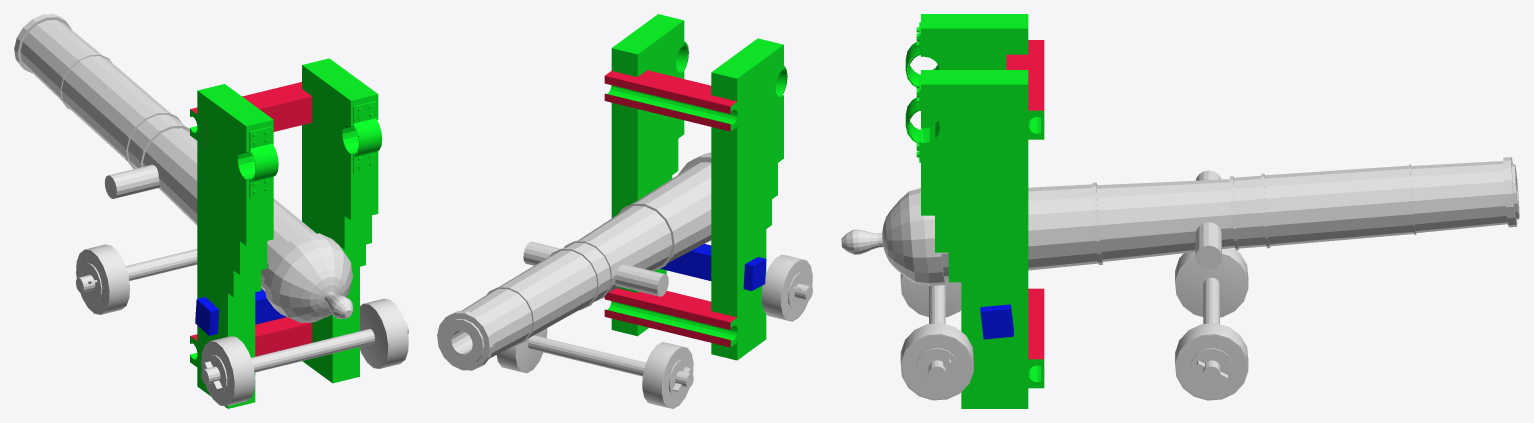
Rendered from Gun11.fbx.
3 views of the same model, side by side, from view 1: azimuth 30°, elevation 25°; view 2: azimuth 150°, elevation 25°; view 3: azimuth 270°, elevation 25° (orthographic). The views are drawn at different scales.
Parts seen in each view (by area): view 1: Base, Gun, Wheel; view 2: Base, Gun, Wheel; view 3: Gun, Base, Wheel.
Boxes of the visible parts, bbox=[...] form: Base: bbox=[190, 58, 382, 408]; Gun: bbox=[14, 14, 353, 322]; Wheel: bbox=[76, 244, 408, 406]; Base: bbox=[604, 14, 787, 360]; Gun: bbox=[437, 152, 711, 370]; Wheel: bbox=[496, 254, 812, 408]; Gun: bbox=[841, 157, 1519, 285]; Base: bbox=[905, 14, 1044, 408]; Wheel: bbox=[900, 248, 1248, 400].
Size of the model in its own units: 8.54 by 12.07 by 22.87.
